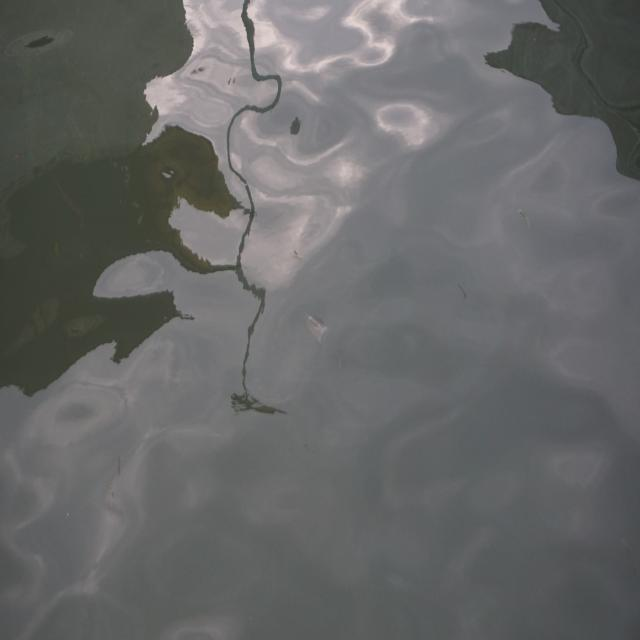Bungkus Minuman: (304, 312, 330, 350)
